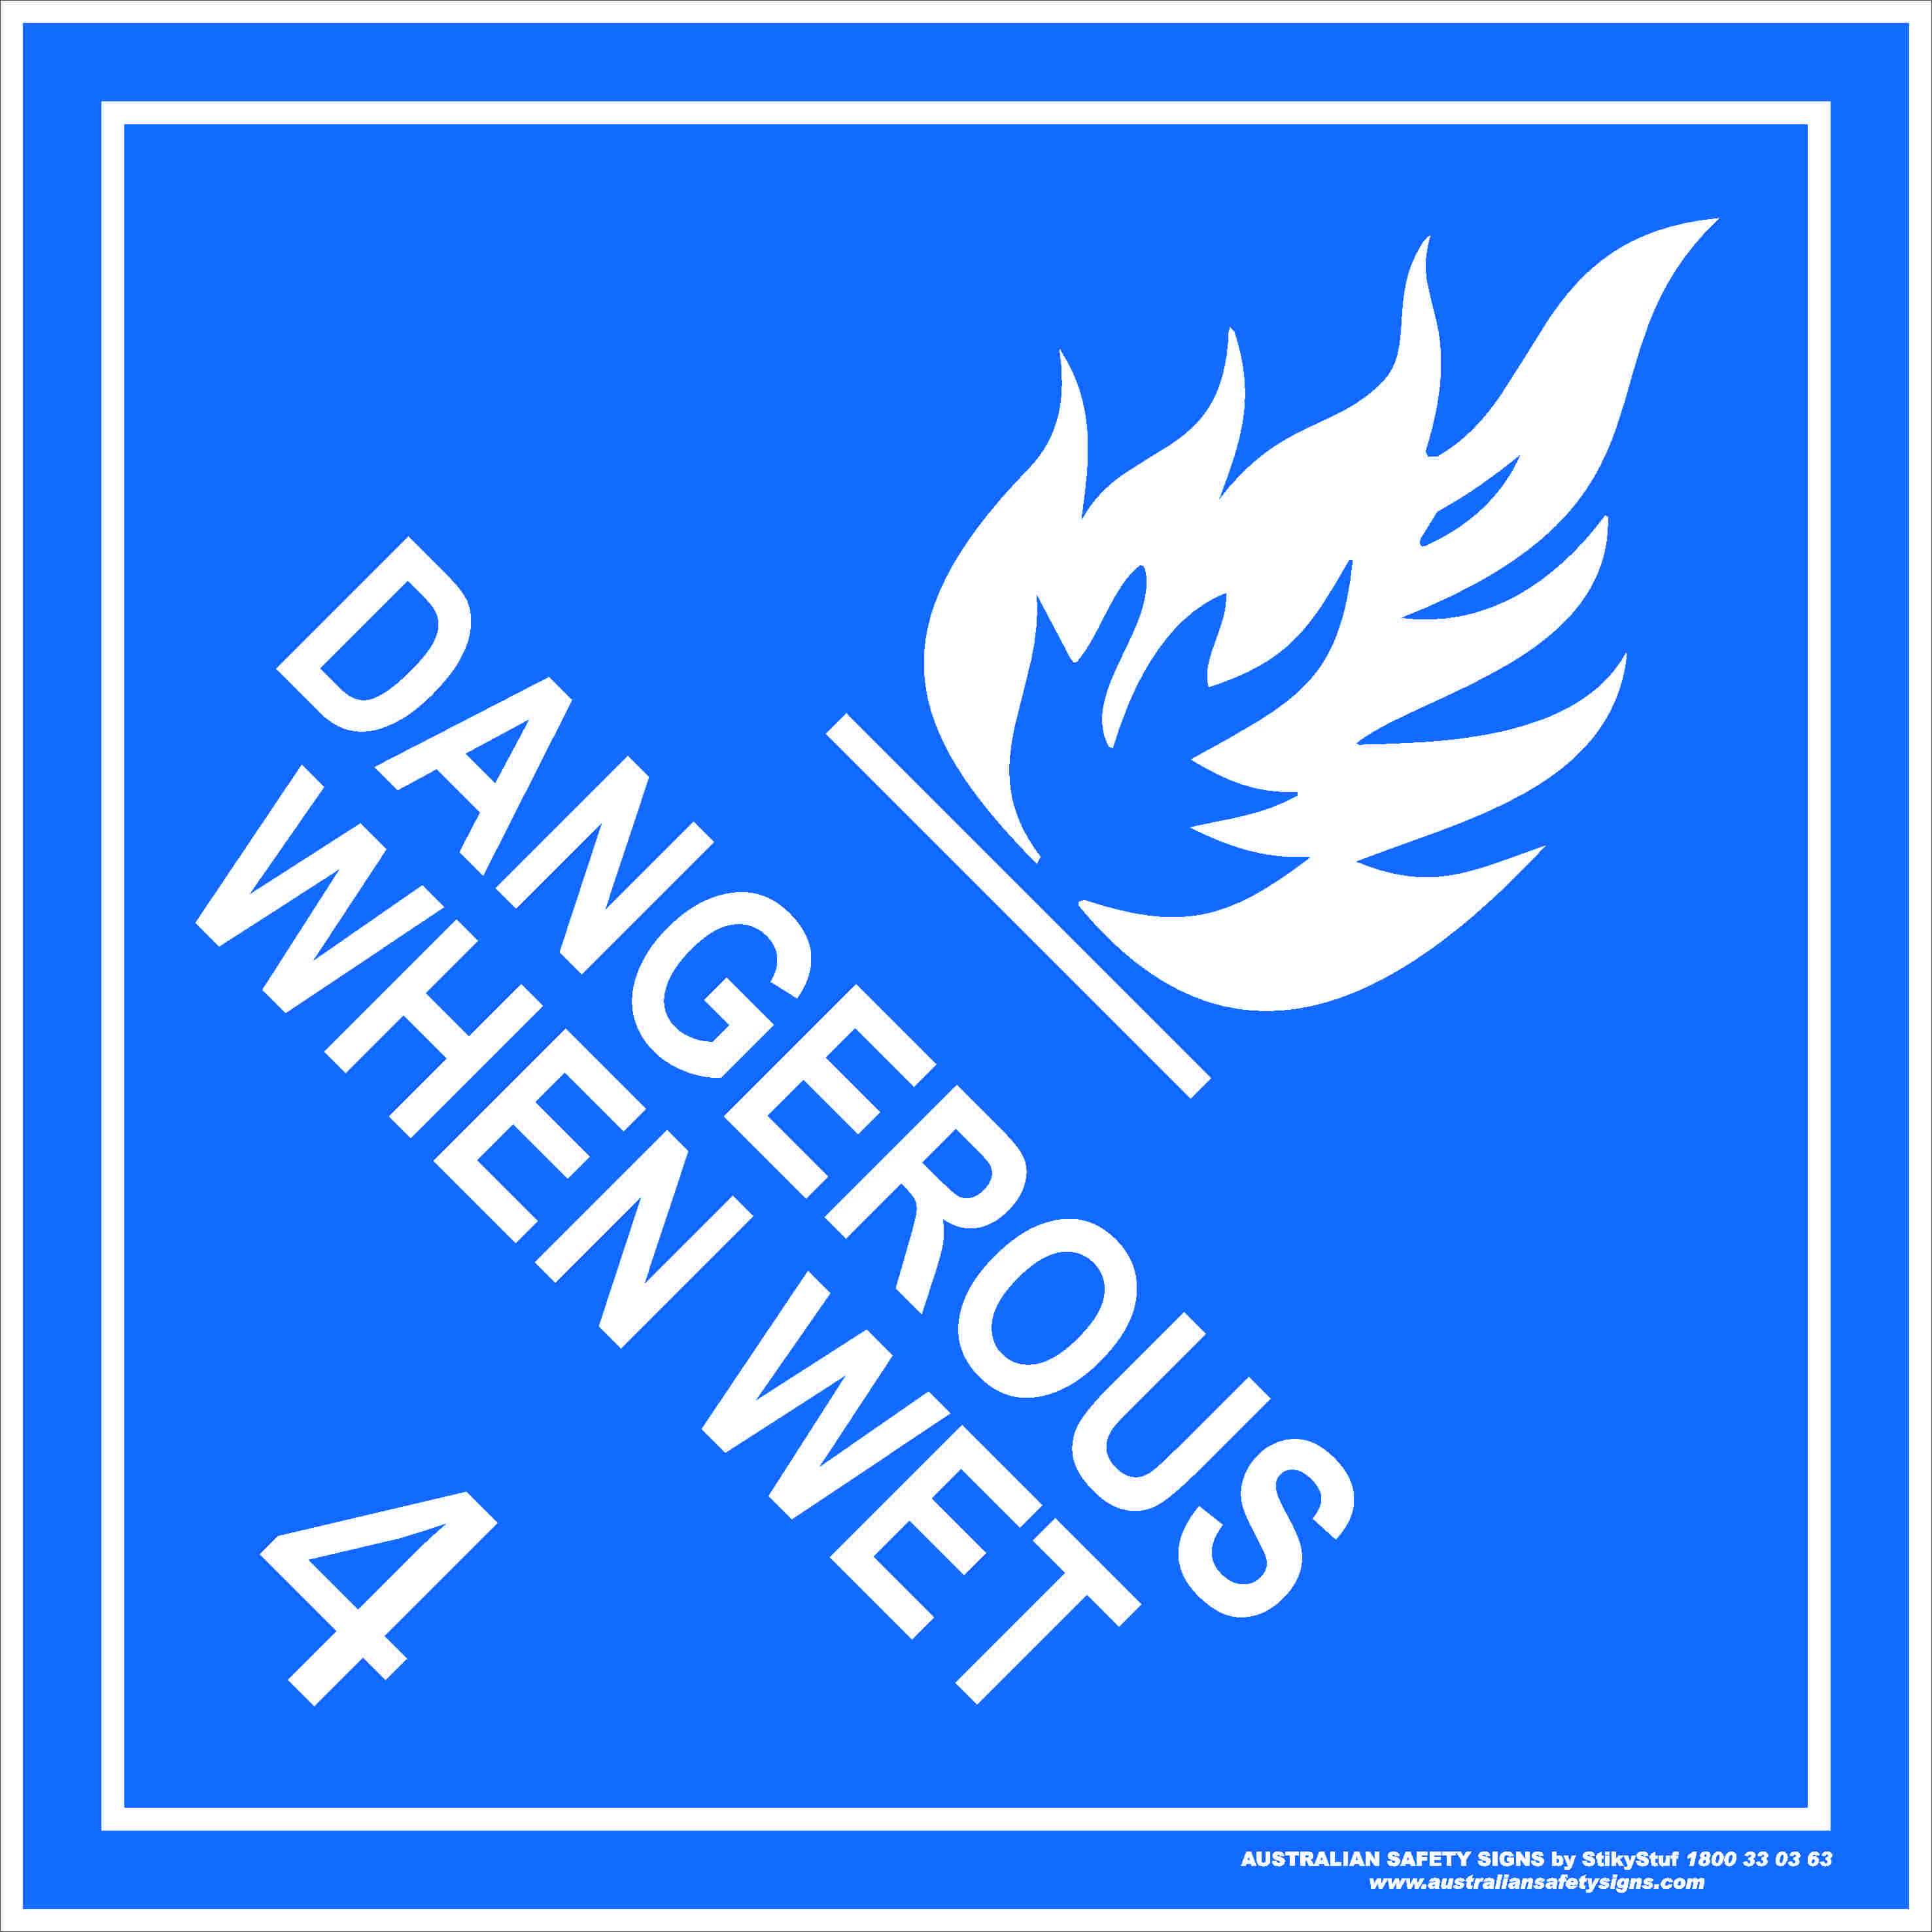Dangerous when wet: (19, 19, 1905, 1907)
